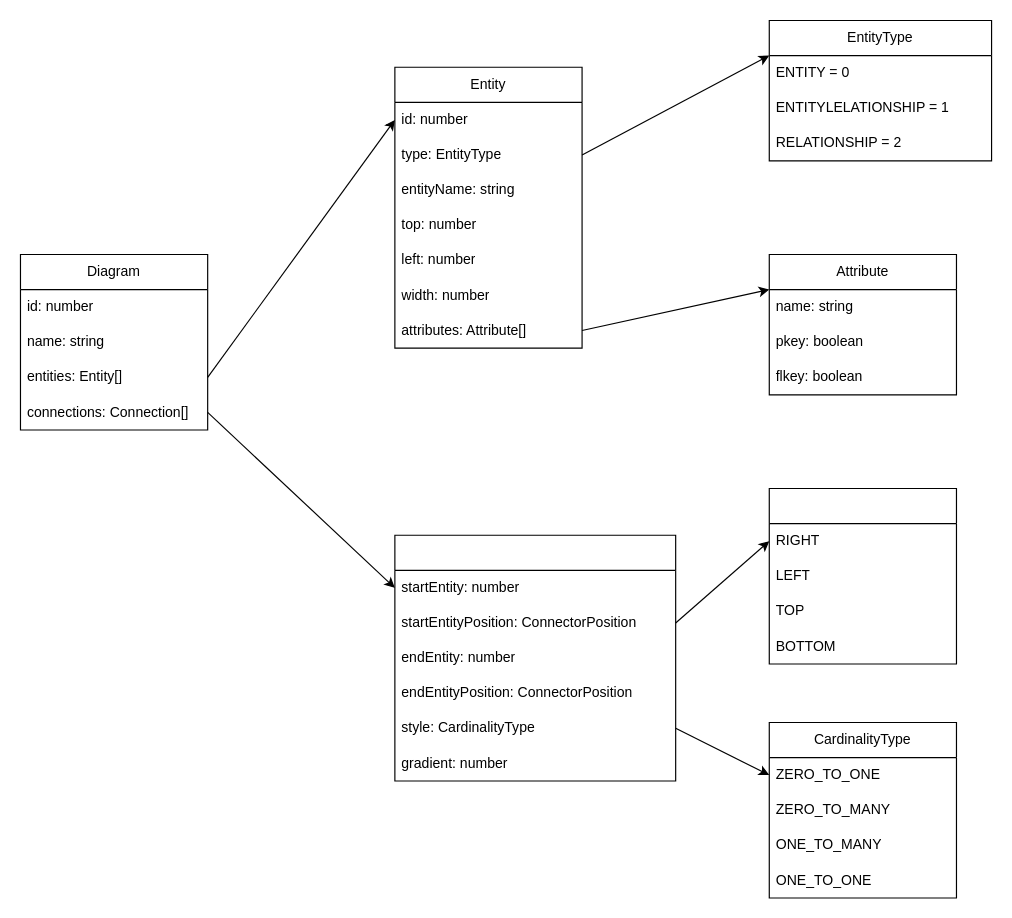
The diagram is 1012 pixels wide and 918 high, and some of its shapes have lost their labels. Each missing label, with the box of its shape:
Connection: (394, 534, 676, 781)
ConnectorPosition: (768, 487, 956, 664)
